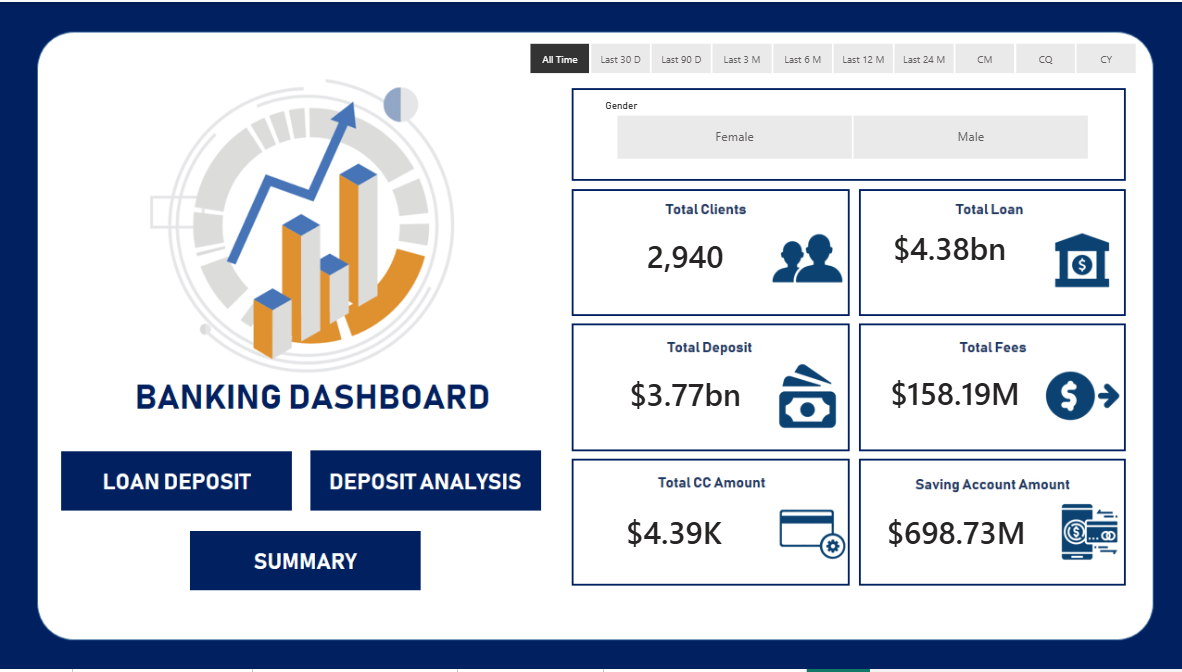

The dashboard page shown, as its layout file describes it:
{"tool":"powerbi","page":{"name":"Home","canvas":[1280,720],"ordinal":0},"visuals":[{"type":"slicer","fields":{"Values":["Gender.Gender"]},"box":[640.3,100.8,558.2,75],"z":0},{"type":"card","fields":{"Values":["DAX Measures.Total Clients"]},"box":[640.3,218.1,198.2,114.9],"z":1000},{"type":"card","fields":{"Values":["DAX Measures.Total Loan"]},"box":[933.4,208.7,184.1,114.9],"z":2000},{"type":"card","fields":{"Values":["DAX Measures.Total Deposit"]},"box":[640.3,374.1,198.2,98.5],"z":3000},{"type":"card","fields":{"Values":["DAX Measures.Total CC Amount"]},"box":[628.5,533.6,198.2,79.7],"z":4000},{"type":"card","fields":{"Values":["DAX Measures.Total Fees"]},"box":[938.1,372.9,185.3,99.7],"z":5000},{"type":"card","fields":{"Values":["DAX Measures.Savings Account"]},"box":[933.4,533.6,198.2,79.7],"z":6000},{"type":"actionButton","box":[63.3,483.1,253.3,65.7],"z":7000},{"type":"actionButton","box":[335.4,485.5,250.9,63.3],"z":8000},{"type":"actionButton","box":[205.2,573.4,255.6,61],"z":9000},{"type":"slicer","fields":{"Values":["Period.Name"]},"box":[546.4,38.7,703.6,45.7],"z":10000}]}

Visuals, with their boxes in screenshot pixels (x1, y1, x2, y2), scaled from the page's 1280x720 canvas onto the 1182x672 screenshot:
slicer - Gender.Gender: BBox(591, 94, 1107, 164)
card - DAX Measures.Total Clients: BBox(591, 204, 774, 311)
card - DAX Measures.Total Loan: BBox(862, 195, 1032, 302)
card - DAX Measures.Total Deposit: BBox(591, 349, 774, 441)
card - DAX Measures.Total CC Amount: BBox(580, 498, 763, 572)
card - DAX Measures.Total Fees: BBox(866, 348, 1037, 441)
card - DAX Measures.Savings Account: BBox(862, 498, 1045, 572)
actionButton: BBox(58, 451, 292, 512)
actionButton: BBox(310, 453, 541, 512)
actionButton: BBox(189, 535, 426, 592)
slicer - Period.Name: BBox(505, 36, 1154, 79)
